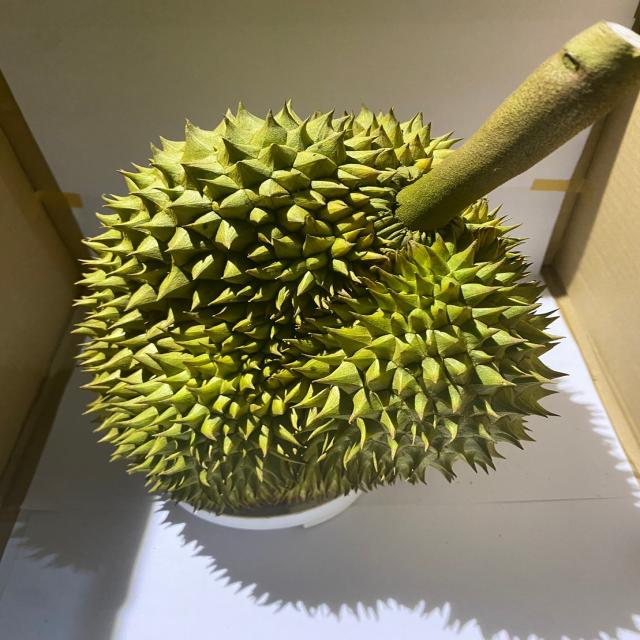immature: (66, 98, 567, 511)
